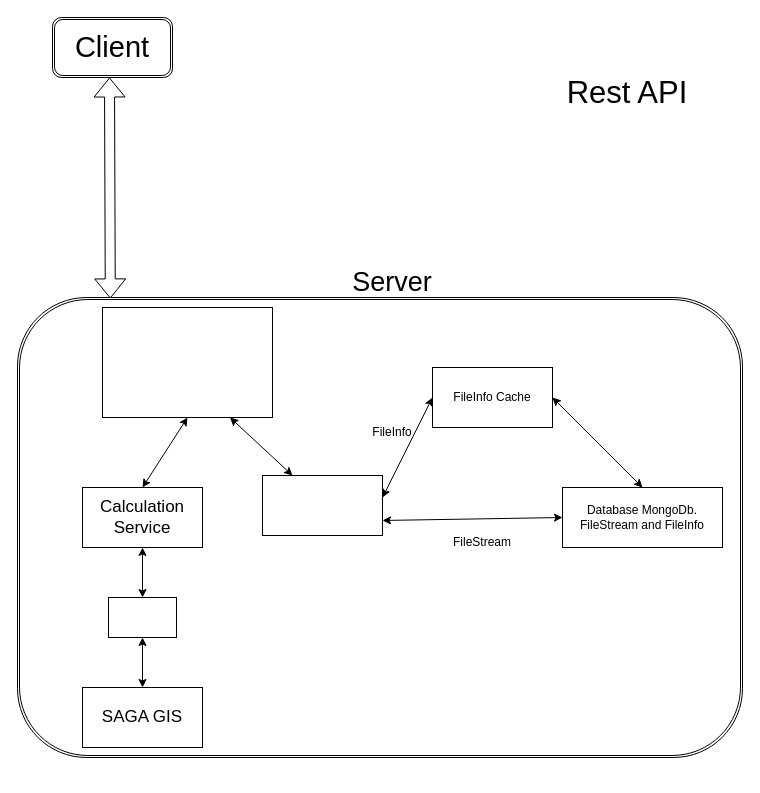
The diagram is 760 pixels wide and 793 high, and some of its shapes have lost their labels. The centre of each missing label's shape, as x and y in pixels:
file .bat (cmd file): pixel 142 617
HTTP: pixel 187 362
Repository Service: pixel 322 505
